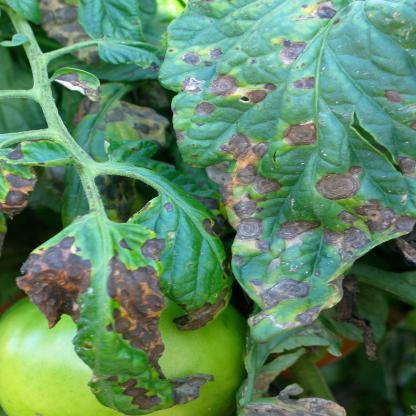Tomato Early blight leaf: (156, 5, 402, 336), (22, 213, 194, 411), (147, 192, 246, 339)
